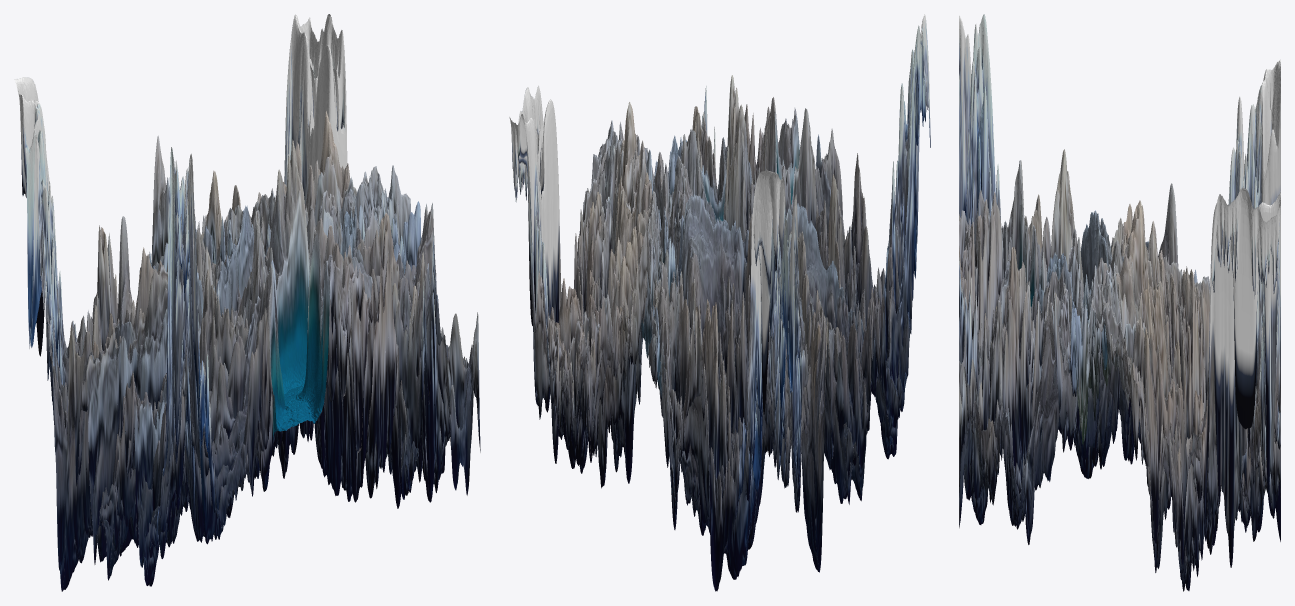
The model's file is terrain-lod1.glb.
The picture shows the model from 3 angles, left to right: view 1: azimuth 30°, elevation 25°; view 2: azimuth 150°, elevation 25°; view 3: azimuth 270°, elevation 25°; orthographic projection. The views are drawn at different scales.
Parts seen in each view (by area): view 1: geometry_0; view 2: geometry_0; view 3: geometry_0.
Boxes of the visible parts, box(x1,y1,x2,y2) form: geometry_0: box(14, 14, 480, 591); geometry_0: box(509, 14, 930, 591); geometry_0: box(959, 14, 1280, 591).
Bounding box in the file's own units: 2046 × 3500 × 2046.
Materials: 1 (1 with a texture image).
